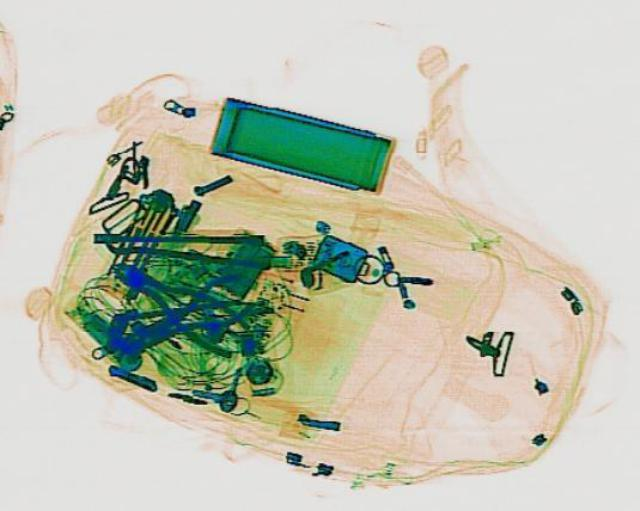Pliers: (97, 247, 265, 362), (108, 267, 264, 365)
